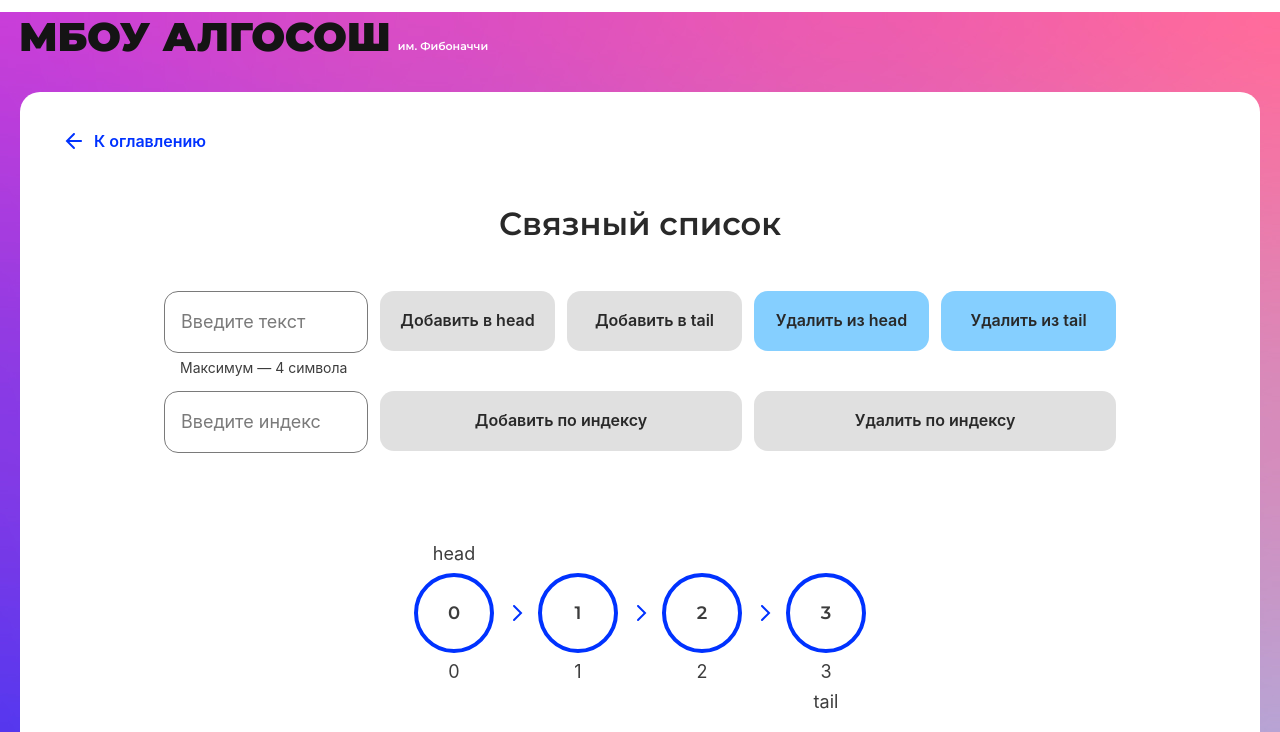
Тесты для страницы связный список › должен удалить элемент из head
This screenshot has width=1280, height=732.
Expected: the heading "Связный список" is shown, left=499, top=204, right=781, bottom=243
Click the button with test id "btnDeleteItemToHead": x=842, y=321 left=754, top=291, right=929, bottom=351
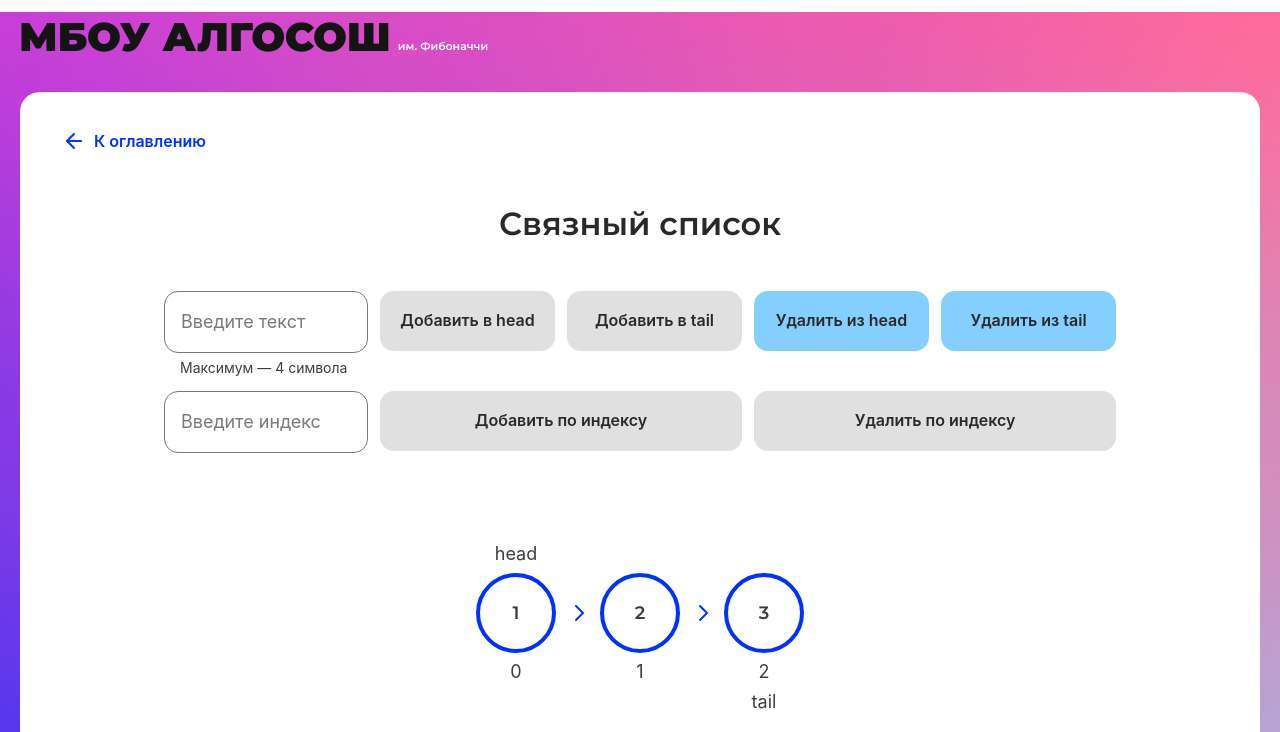
Now the element showing "1" is shown, box left=476, top=573, right=556, bottom=653
Now the element showing "2" is shown, box left=600, top=573, right=680, bottom=653
Now the element showing "3" is shown, box left=724, top=573, right=804, bottom=653
